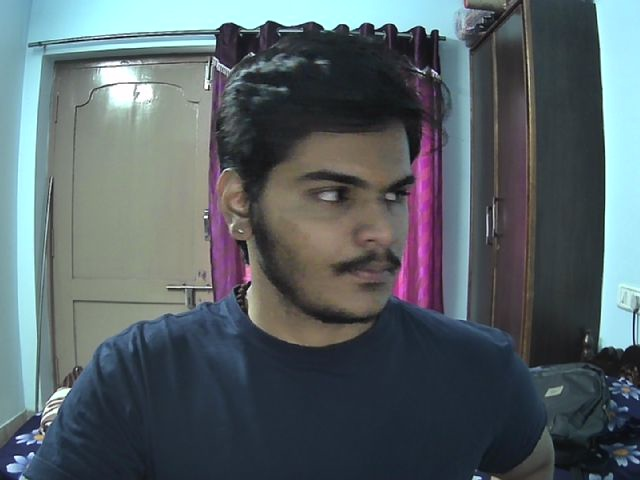NoMask: (253, 206, 408, 326)
